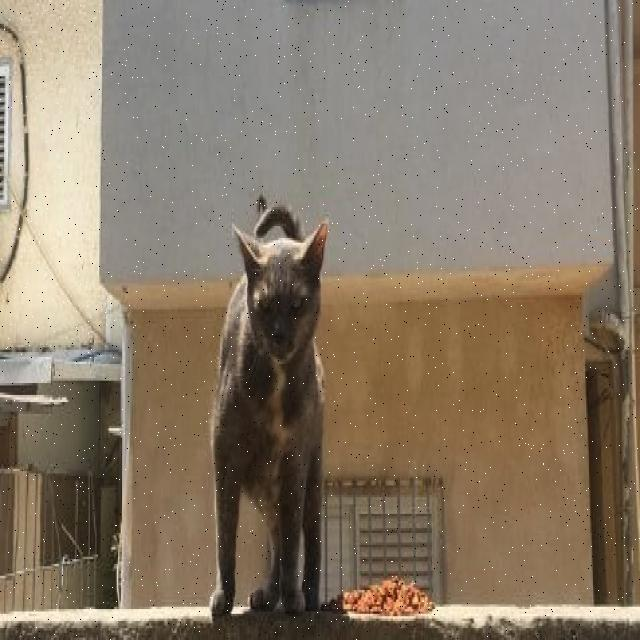cat: (210, 206, 326, 616)
